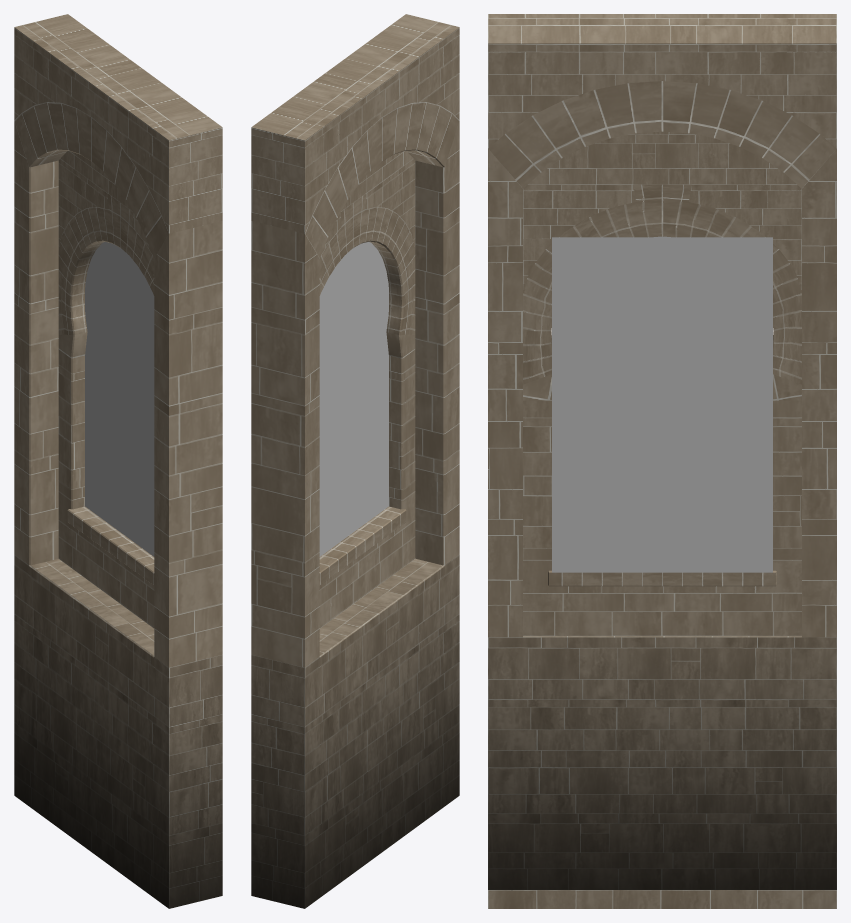
Rendered from Wall.fbx.
The picture shows the model from 3 angles, left to right: view 1: azimuth 30°, elevation 25°; view 2: azimuth 150°, elevation 25°; view 3: azimuth 270°, elevation 25°; orthographic projection. The views are drawn at different scales.
Visible parts, largest first — view 1: Wall; view 2: Wall; view 3: Wall.
Boxes of the visible parts, left/top/right/bottom form: Wall: left=14, top=14, right=222, bottom=908; Wall: left=251, top=14, right=459, bottom=908; Wall: left=488, top=14, right=836, bottom=908.
Size of the model in its own units: 100 by 1369 by 500.
